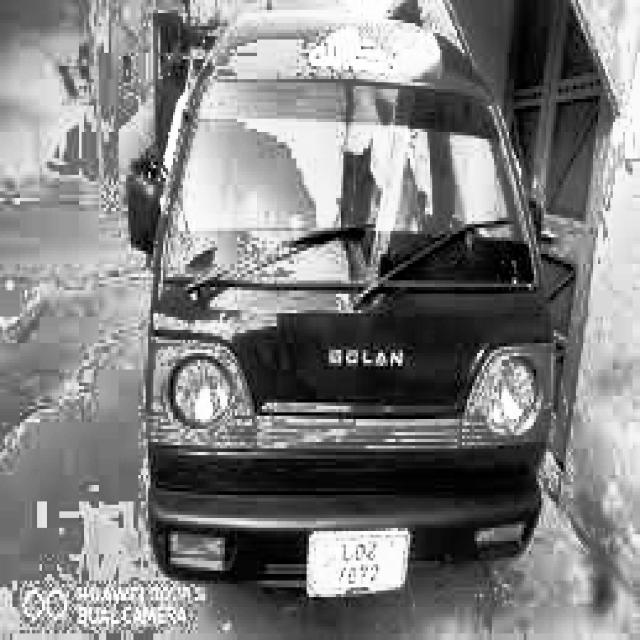LCV: (119, 26, 573, 604)
